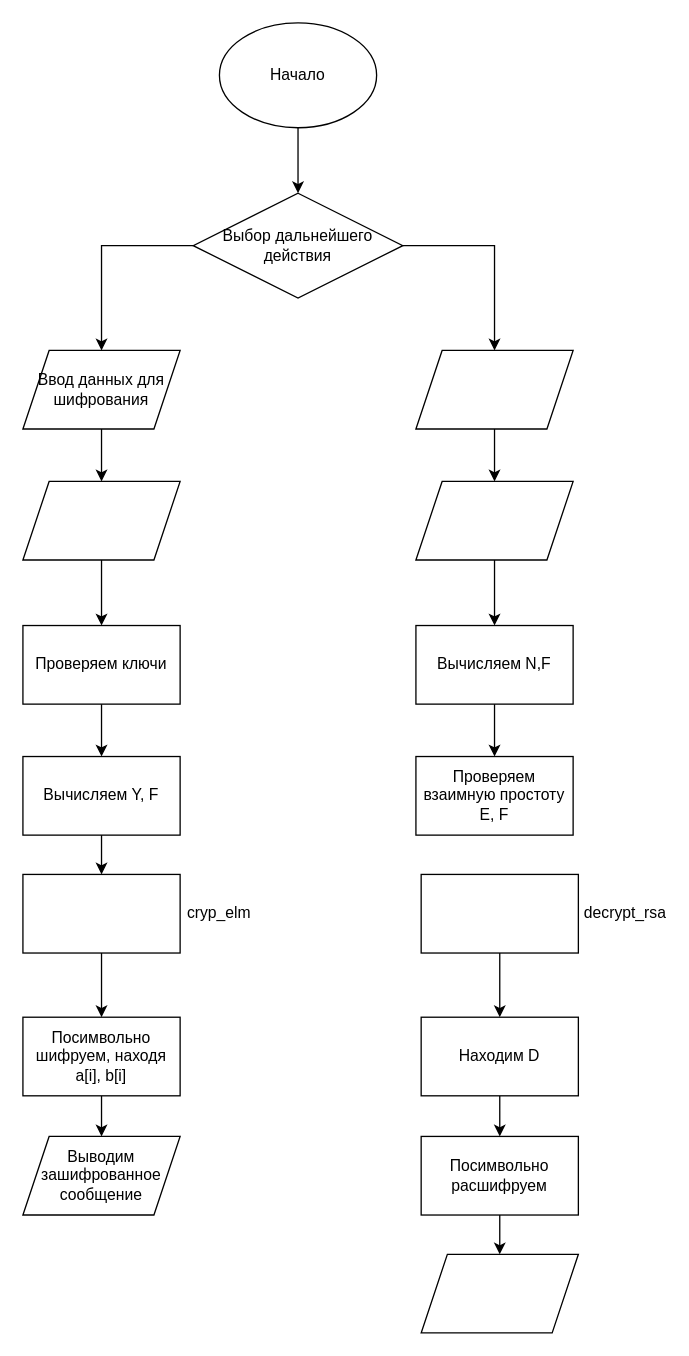
This 689x1356 diagram has some shape labels left out. Here are the shapes that lost their labels. From the top down, the box of each, then its label:
(415, 349, 573, 429): Ввод данных для расшифрования
(22, 480, 180, 560): Нажатие кнопки "Шифровать"
(415, 480, 573, 560): Нажатие кнопки "Расшифровать"
(22, 873, 180, 953): Вызываем функцию шифрования
(420, 873, 578, 953): Вызываем функцию расшифрования
(420, 1253, 578, 1333): Выводим расшифрованное сообщение
